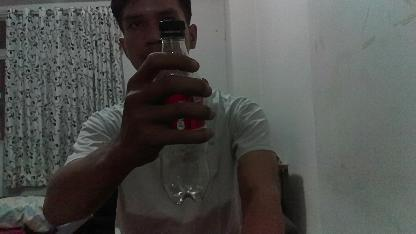Plastic Bottle: (158, 20, 210, 204)
